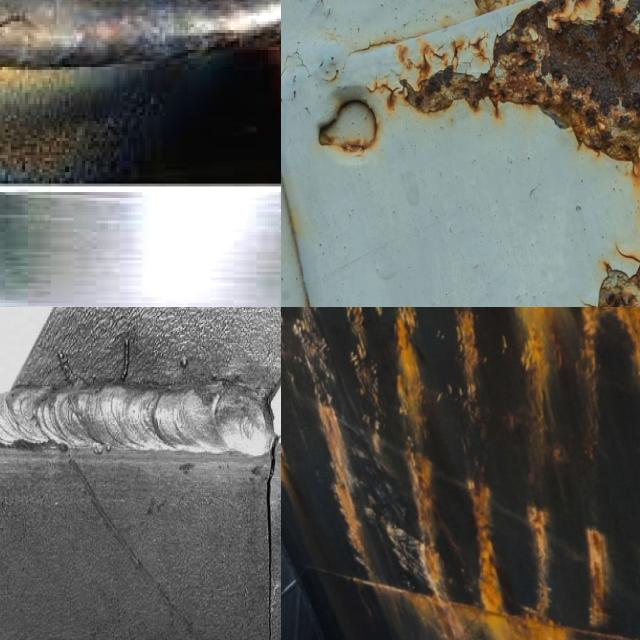Crack: (263, 435, 278, 640), (0, 13, 62, 50)
Uniform Corrosion: (395, 307, 452, 598), (581, 307, 640, 481), (318, 402, 374, 577), (467, 479, 505, 611), (515, 307, 556, 409), (456, 307, 486, 421), (526, 506, 550, 618), (586, 528, 608, 626), (347, 307, 360, 336)
